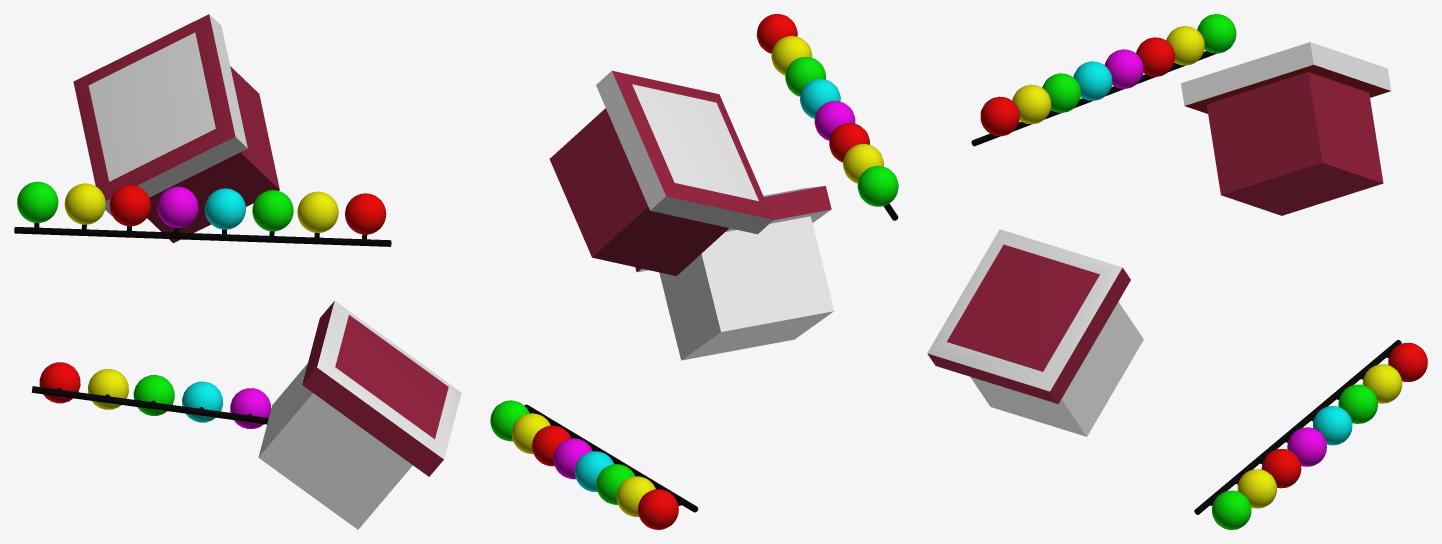
File: Chrismas.fbx
3 views of the same model, side by side, from view 1: azimuth 30°, elevation 25°; view 2: azimuth 150°, elevation 25°; view 3: azimuth 270°, elevation 25° (orthographic). The views are drawn at different scales.
Visible parts, largest first — view 1: Chrismas; view 2: Chrismas; view 3: Chrismas.
Part boxes in pixels (x1,y1,x2,y2): Chrismas: (14,14,461,529); Chrismas: (490,14,898,529); Chrismas: (927,14,1427,529).
Bounding box in the file's own units: 105 × 108 × 117.
